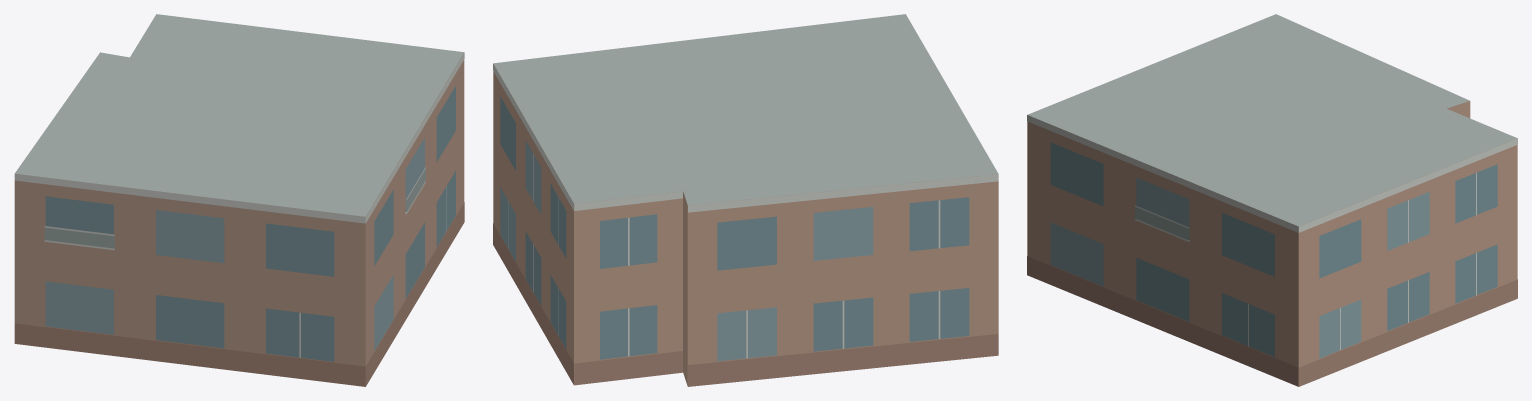
Rendered from survey-upis-33006578.glb.
3 renders of one model, left to right at view 1: azimuth 30°, elevation 25°; view 2: azimuth 150°, elevation 25°; view 3: azimuth 270°, elevation 25°, orthographic. The views are drawn at different scales.
Parts seen in each view (by area): view 1: survey-upis-33006578.tmp; view 2: survey-upis-33006578.tmp; view 3: survey-upis-33006578.tmp.
Part boxes in pixels (x1,y1,x2,y2): survey-upis-33006578.tmp: (14, 14, 464, 386); survey-upis-33006578.tmp: (493, 14, 998, 386); survey-upis-33006578.tmp: (1027, 14, 1517, 386).
Bounding box in the file's own units: 17.35 × 6.1 × 16.92.
